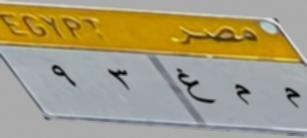3: (108, 65, 133, 99)
9: (48, 60, 80, 93)
ghayn: (175, 65, 215, 109)
meem: (278, 80, 304, 116), (231, 77, 254, 112)
